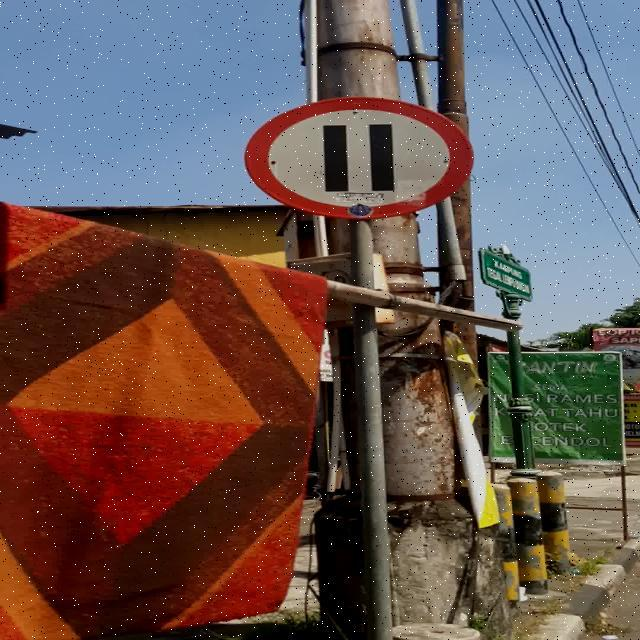Larangan Muatan - 10 ton: (245, 96, 474, 218)
